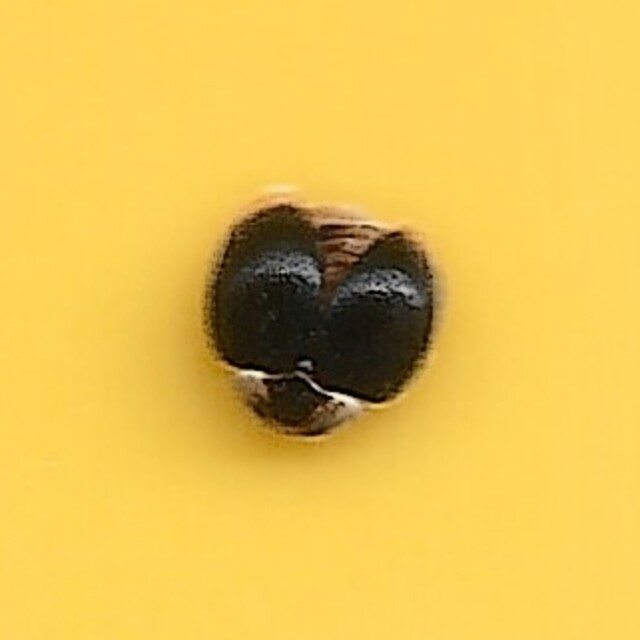Coleoptera: (199, 192, 441, 448)
